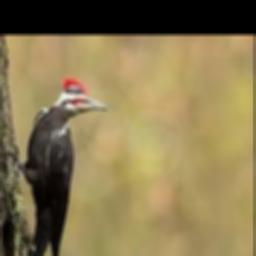Woodpecker: (2, 79, 107, 256)
